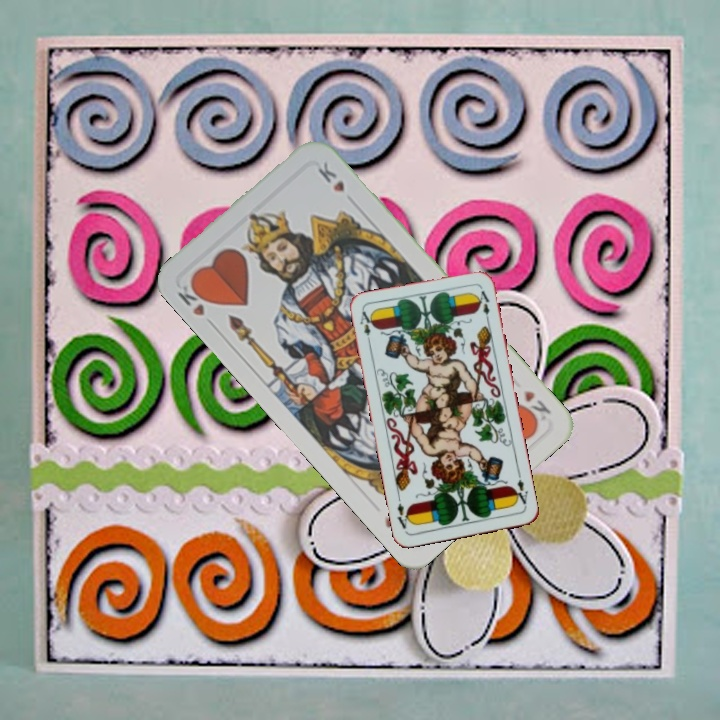EA: (356, 307, 376, 347), (509, 475, 531, 509)
HK: (173, 277, 218, 331), (515, 386, 554, 428)
